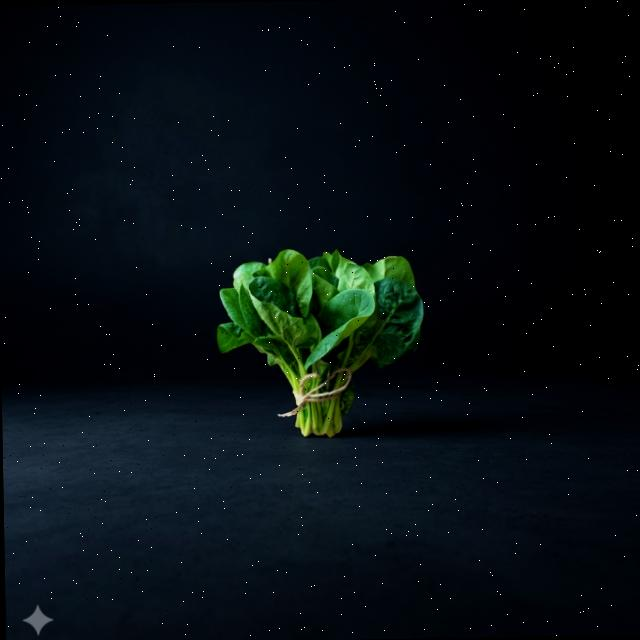spinach: (49, 119, 578, 569)
